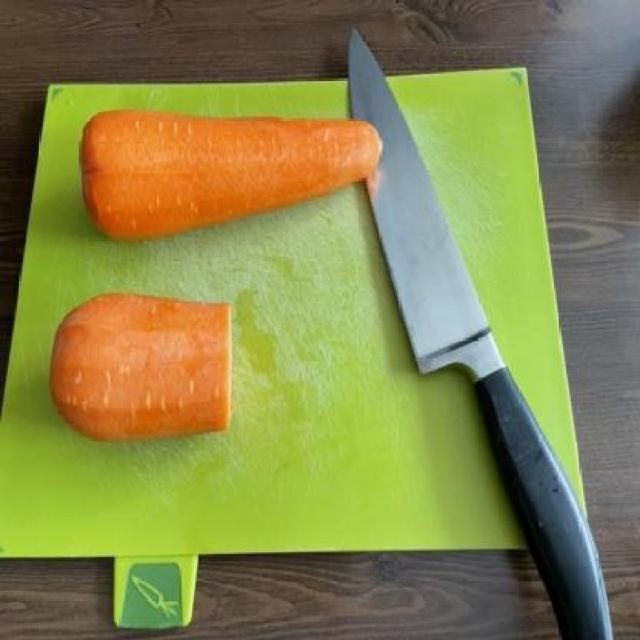carrot: (76, 109, 389, 243), (44, 289, 238, 450)
